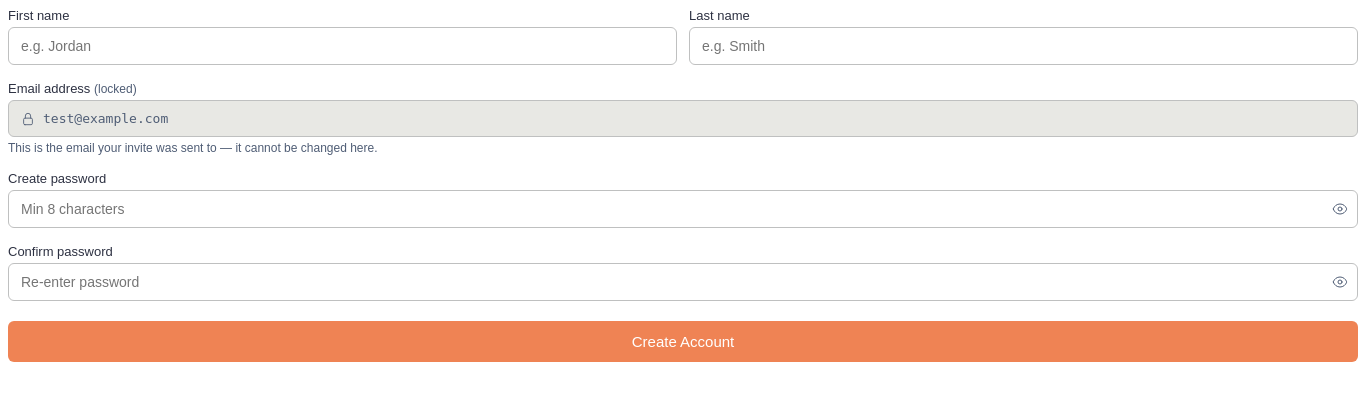
Test: AccountSetupForm › shows validation errors on empty submit
Click the button "Create Account" at (683, 342), box [8, 321, 1358, 362]
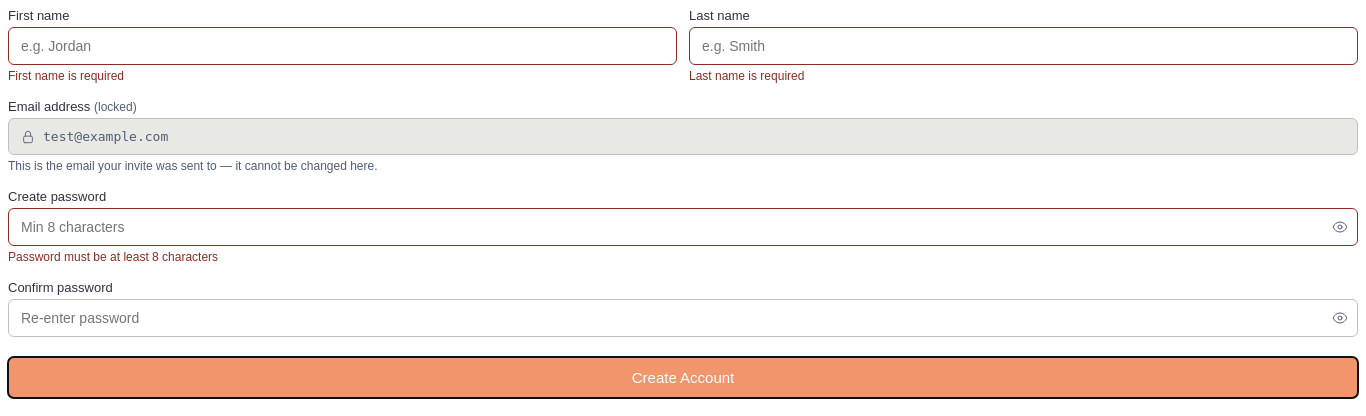
Expected: the text "First name is required" is shown, [8, 69, 124, 83]
Expected: the text "Last name is required" is shown, [689, 69, 804, 83]
Expected: the text "Password must be at least 8 characters" is shown, [8, 250, 218, 264]
